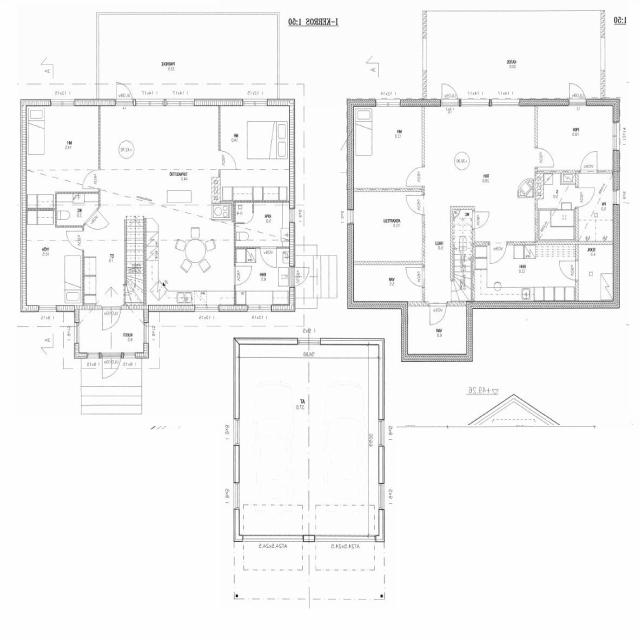door: (85, 209, 110, 237), (102, 304, 121, 332), (115, 79, 134, 106), (102, 353, 121, 380), (569, 79, 587, 107), (289, 267, 312, 287), (442, 80, 458, 107), (429, 301, 446, 326), (575, 187, 596, 207), (558, 260, 578, 280), (218, 150, 238, 170), (406, 195, 425, 215), (489, 242, 506, 264), (535, 148, 554, 167), (406, 167, 425, 186), (66, 231, 84, 251), (581, 151, 597, 173), (260, 246, 276, 268), (406, 268, 425, 286), (234, 266, 252, 285), (262, 182, 278, 203), (82, 170, 100, 188), (472, 212, 490, 229)
